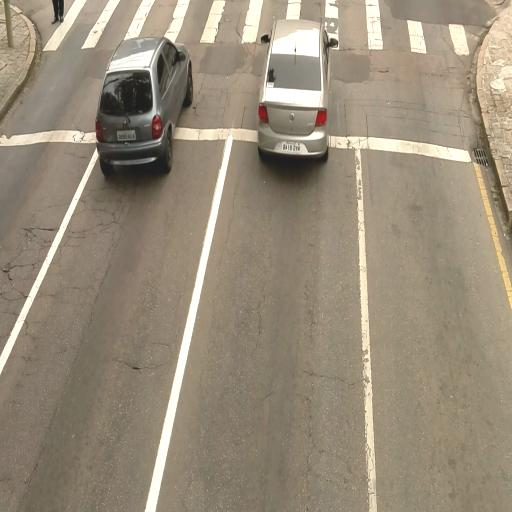car: (97, 35, 194, 176), (256, 16, 335, 163)
